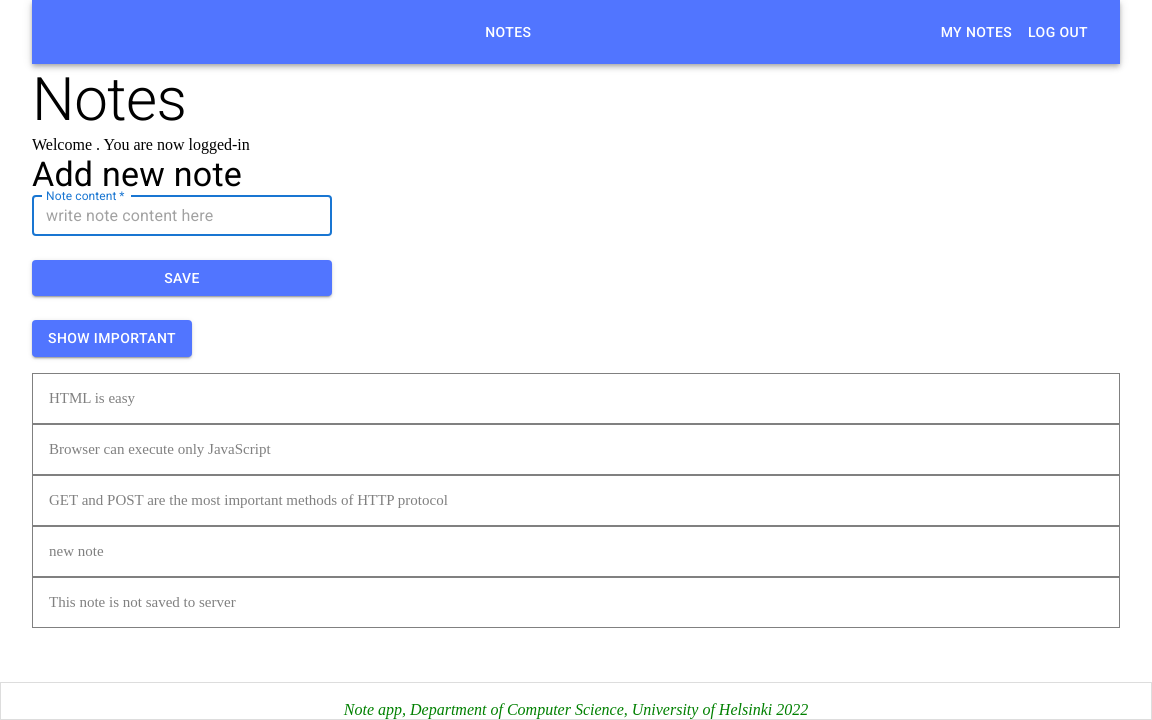
it: Note app › when logged in › a new note can be created
The width and height of the screenshot is (1152, 720).
Click the heading "Add new note" at (137,174), box [32, 154, 242, 194]
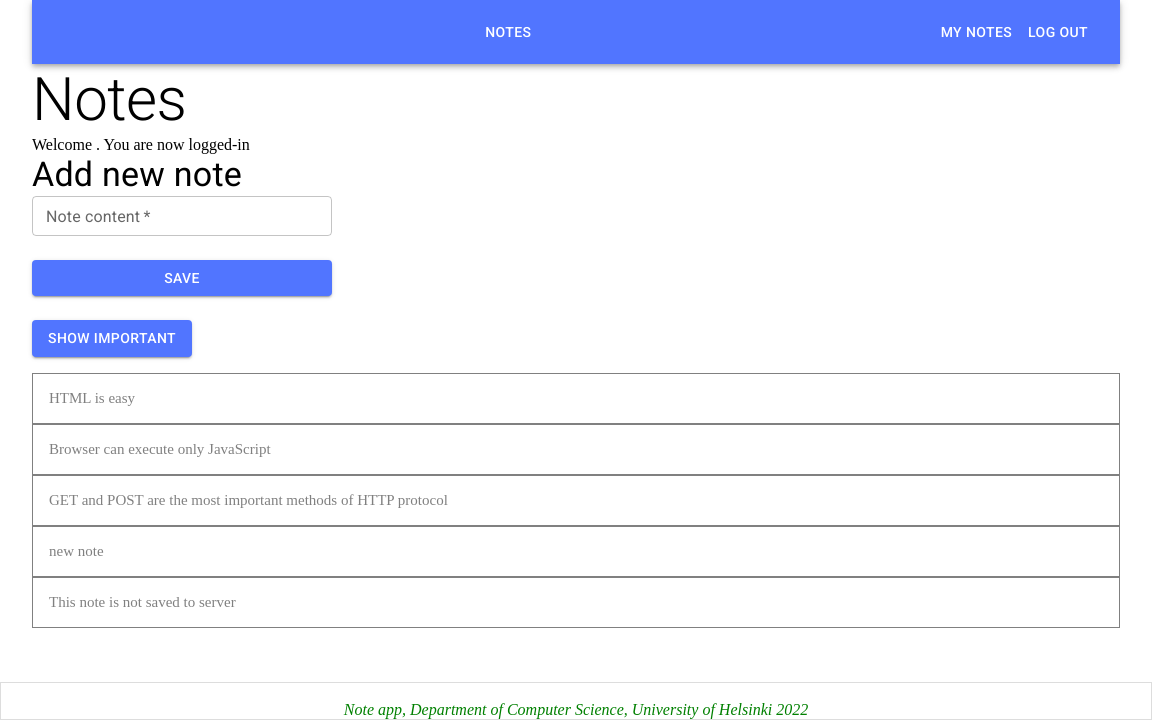
Type "a note created by cypress" into the field labelled "Note content *" at (182,216), box [32, 196, 332, 236]
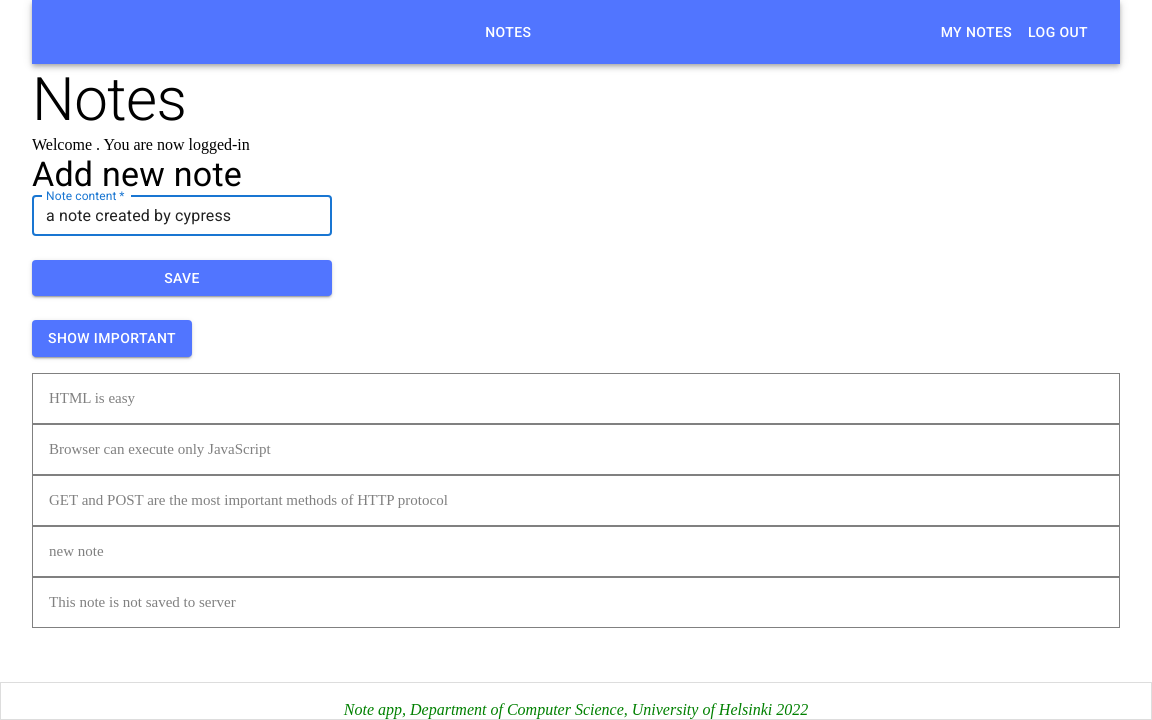
Click the button "save" at (182,279), box [32, 260, 332, 297]
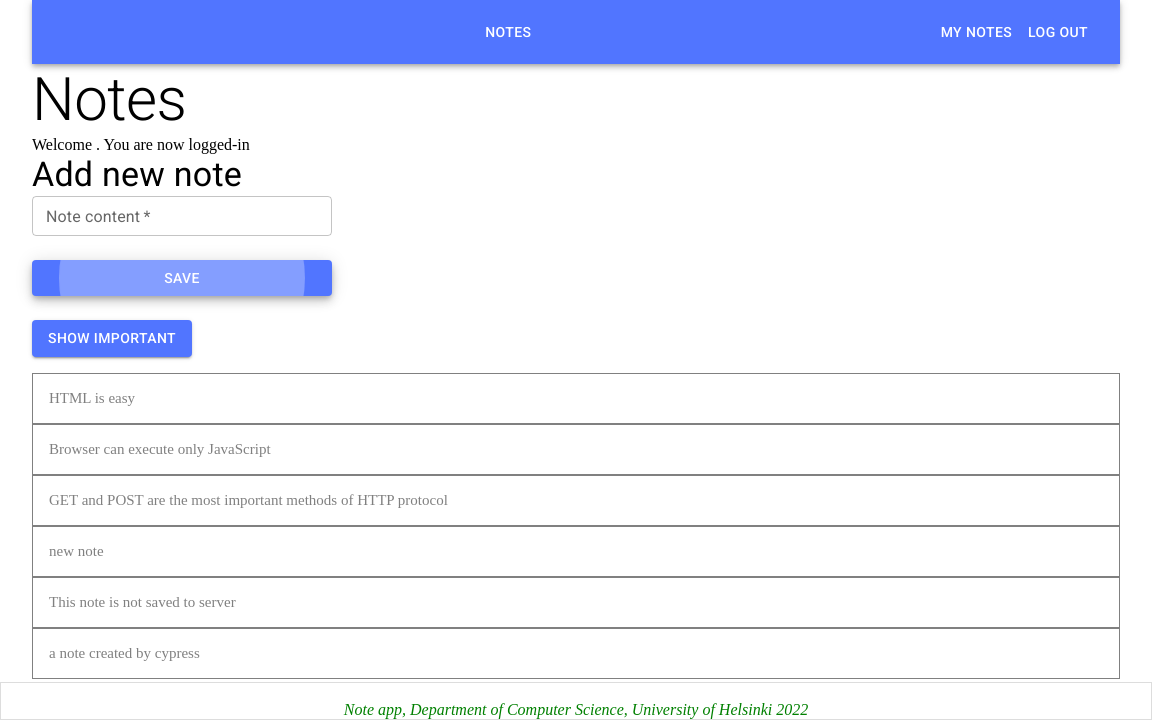
Expected: the text "a note created by cypress" is shown, [49, 645, 200, 662]
